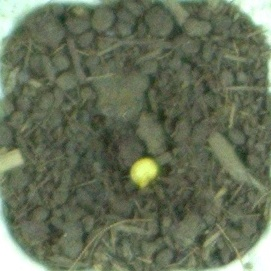chilli seed: (130, 156, 159, 190)
